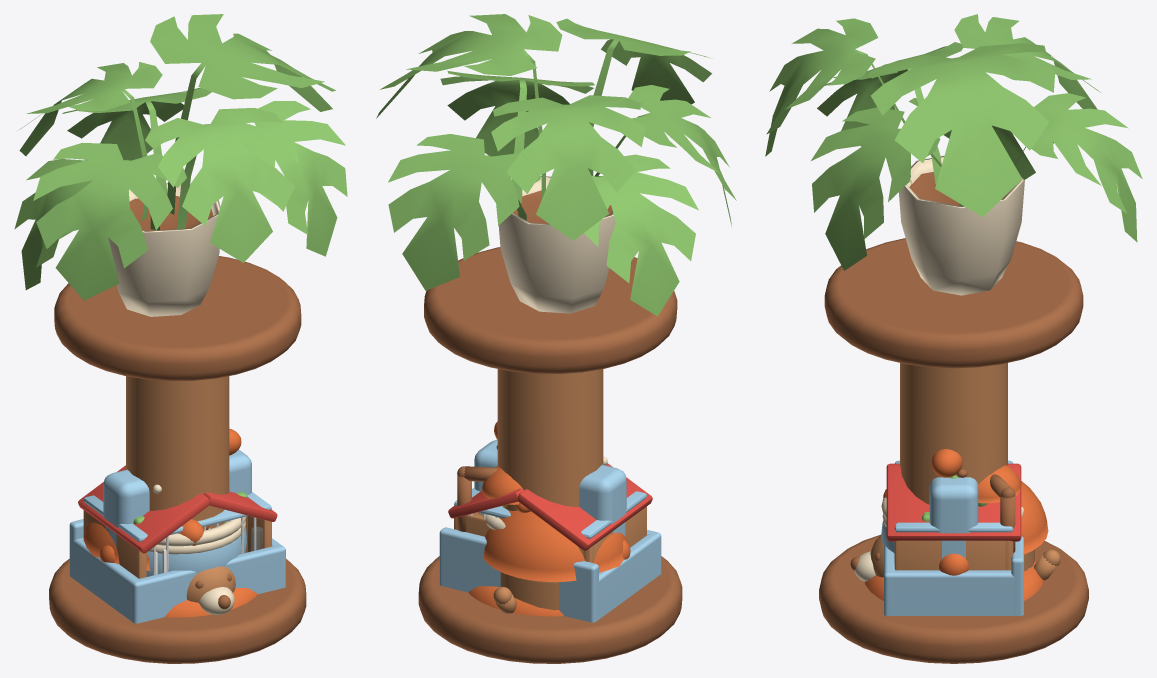
The model's file is interest_pet_plant_v3_8_draco_webp.glb.
3 views of the same model, side by side, from view 1: azimuth 30°, elevation 25°; view 2: azimuth 150°, elevation 25°; view 3: azimuth 270°, elevation 25° (orthographic). The views are drawn at different scales.
Visible parts, largest first — view 1: plant_stand_plant_body, plant_stand_top, plant_stand_base, plant_stand_post, tank_front, ant_frame, tank_side_-1, rabbit_hutch_roof_l, fish_bowl_glass, hamster_cage_roof, rabbit_hutch_roof_r, rabbit_hutch_side_-1 (+7 smaller); view 2: plant_stand_plant_body, plant_stand_top, plant_stand_base, plant_stand_post, house_roof, tank_back, ant_frame, tank_side_-1, rabbit_hutch_roof_l, house_body, rabbit_hutch_roof_r, bed_rim (+5 smaller); view 3: plant_stand_plant_body, plant_stand_top, plant_stand_base, plant_stand_post, tank_side_1, rabbit_hutch_roof_r, ant_frame, rabbit_hutch, house_roof, hamster_cage_roof, lamp_shade, bed_rim (+3 smaller).
Boxes of the visible parts, x1,y1,x2,y2 form: plant_stand_plant_body: (14, 14, 347, 316); plant_stand_top: (54, 256, 301, 381); plant_stand_base: (49, 559, 306, 663); plant_stand_post: (126, 376, 229, 528); tank_front: (131, 545, 285, 623); ant_frame: (103, 449, 251, 552); tank_side_-1: (70, 538, 142, 623); rabbit_hutch_roof_l: (78, 465, 209, 553); fish_bowl_glass: (146, 526, 247, 576); hamster_cage_roof: (83, 492, 271, 541); rabbit_hutch_roof_r: (203, 491, 277, 521); rabbit_hutch_side_-1: (83, 510, 146, 578); plant_stand_plant_body: (376, 14, 736, 316); plant_stand_top: (424, 247, 677, 373); plant_stand_base: (418, 556, 682, 663); plant_stand_post: (497, 369, 603, 510); house_roof: (483, 510, 627, 581); tank_back: (439, 527, 598, 622); ant_frame: (474, 439, 626, 535); tank_side_-1: (593, 533, 660, 622); rabbit_hutch_roof_l: (517, 463, 652, 550); house_body: (500, 572, 558, 610); rabbit_hutch_roof_r: (448, 488, 523, 518); bed_rim: (468, 586, 563, 616); plant_stand_plant_body: (765, 14, 1142, 295); plant_stand_top: (824, 238, 1083, 368); plant_stand_base: (819, 534, 1088, 663); plant_stand_post: (900, 363, 1007, 504); tank_side_1: (884, 570, 1023, 615); rabbit_hutch_roof_r: (886, 466, 1021, 541); ant_frame: (929, 477, 978, 558); rabbit_hutch: (894, 540, 1013, 570); house_roof: (1021, 481, 1048, 554); hamster_cage_roof: (894, 460, 1013, 532); lamp_shade: (978, 465, 1020, 503); bed_rim: (865, 560, 1043, 600).
Bounding box in the file's own units: 0.7 × 1.19 × 0.7.
